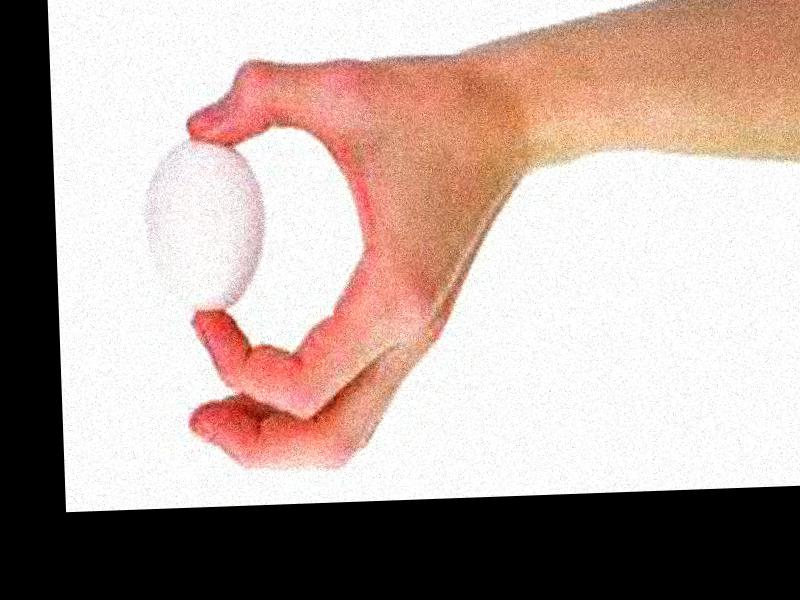Eggs: (141, 137, 268, 315)
